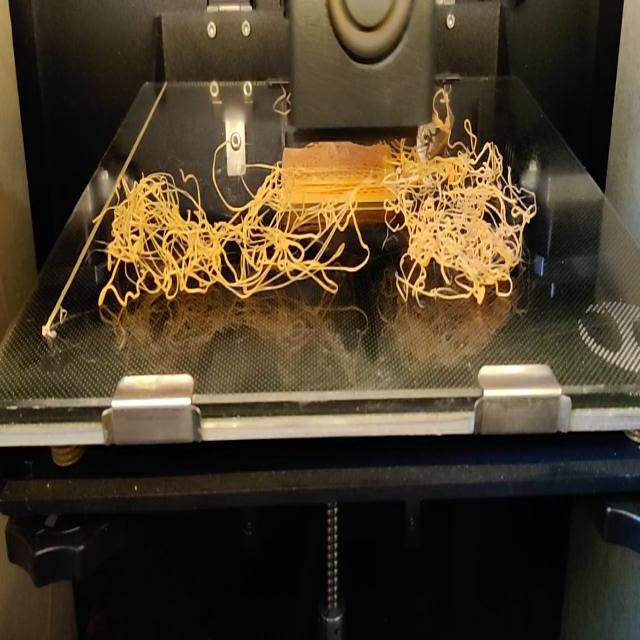spaghetti: (86, 141, 538, 314), (433, 82, 479, 146), (275, 84, 291, 114)
